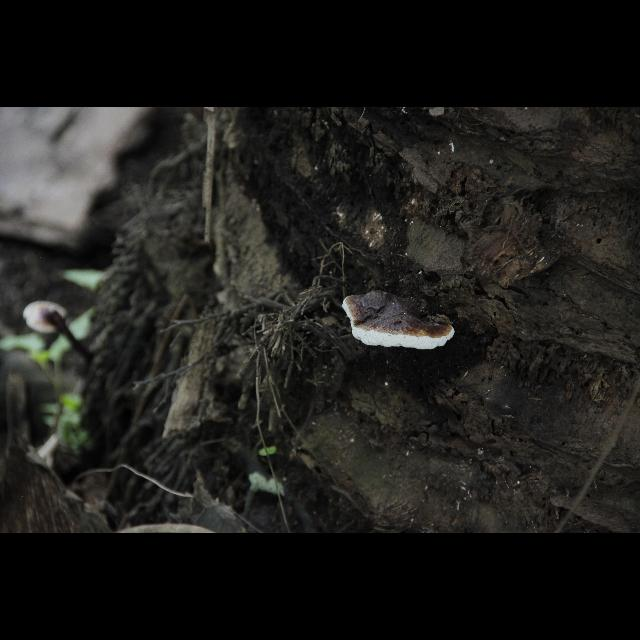ganoderma: (343, 291, 456, 352), (23, 301, 71, 336)
